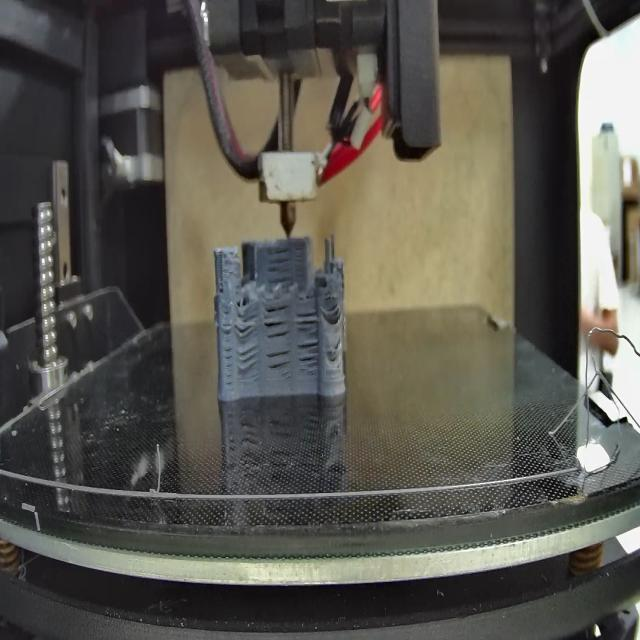cracks: (264, 242, 294, 284), (220, 306, 232, 385), (232, 305, 259, 340), (235, 344, 262, 379), (264, 305, 291, 339), (296, 341, 319, 378), (266, 348, 292, 379), (295, 308, 317, 336), (328, 304, 343, 322), (331, 336, 344, 354), (220, 276, 227, 296)
